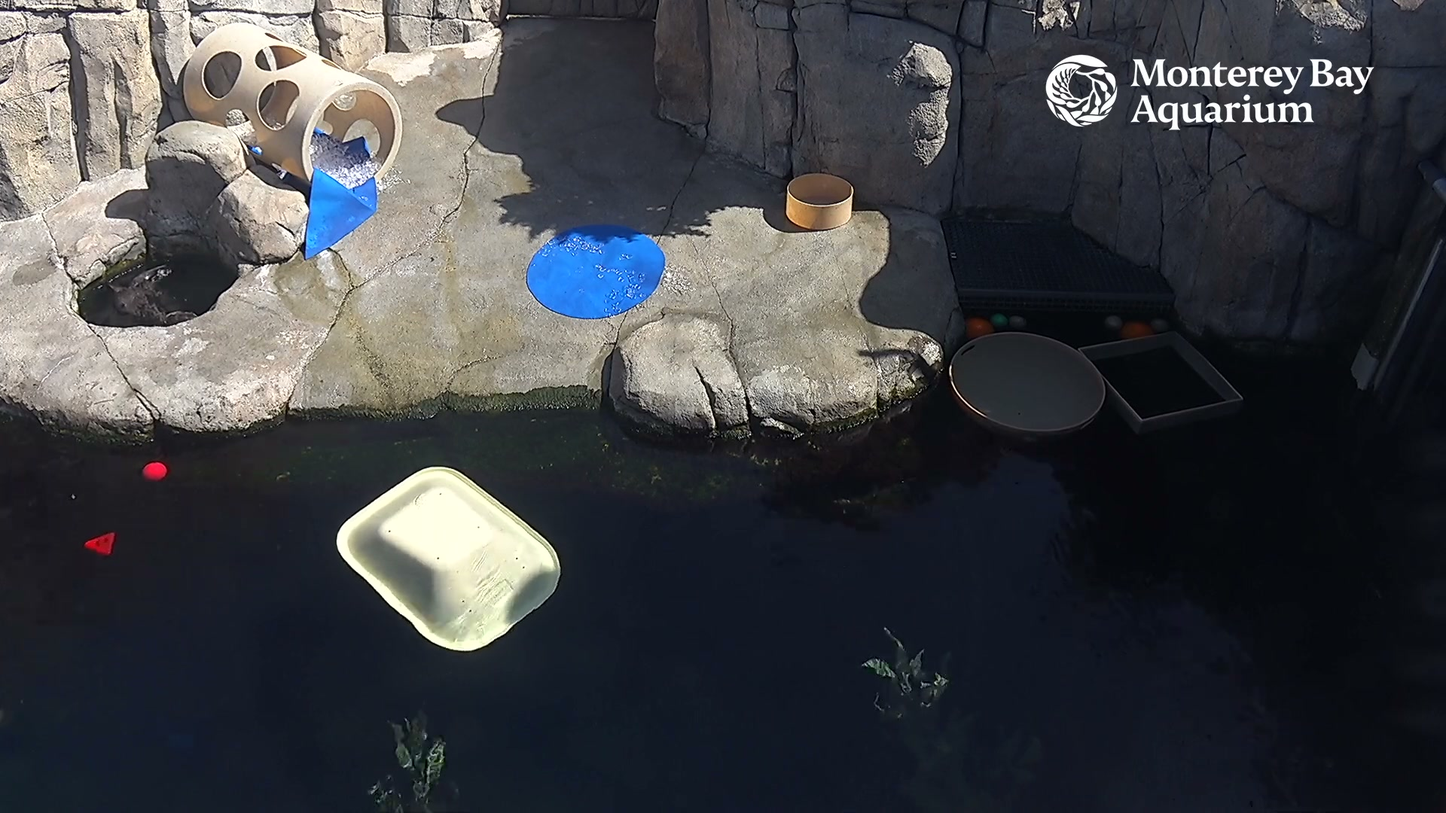Southern Sea Otter: (105, 246, 197, 330)
